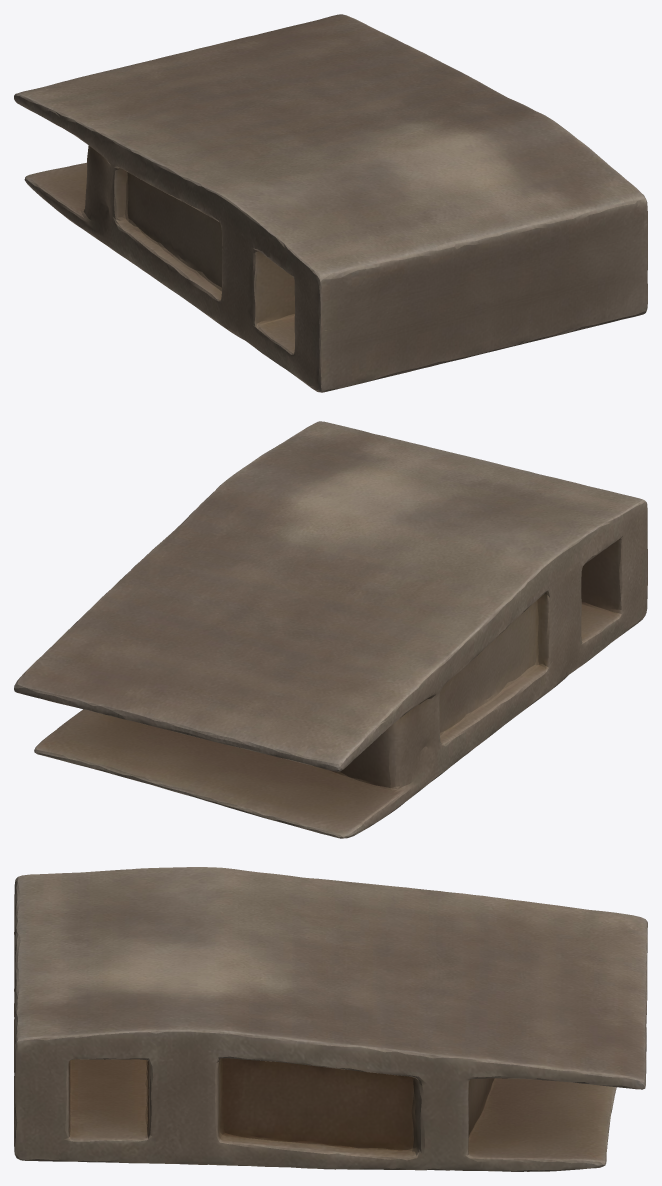
3 views of the same model, one above another, from view 1: azimuth 30°, elevation 25°; view 2: azimuth 150°, elevation 25°; view 3: azimuth 270°, elevation 25° (orthographic). The views are drawn at different scales.
Visible parts, largest first — view 1: Mesh; view 2: Mesh; view 3: Mesh.
Boxes of the visible parts, x1,y1,x2,y2 form: Mesh: (14,14,647,392); Mesh: (14,421,647,838); Mesh: (14,867,647,1171).
Size of the model in its own units: 1.17 by 0.4709 by 1.89.
Materials: 1 (1 with a texture image).
